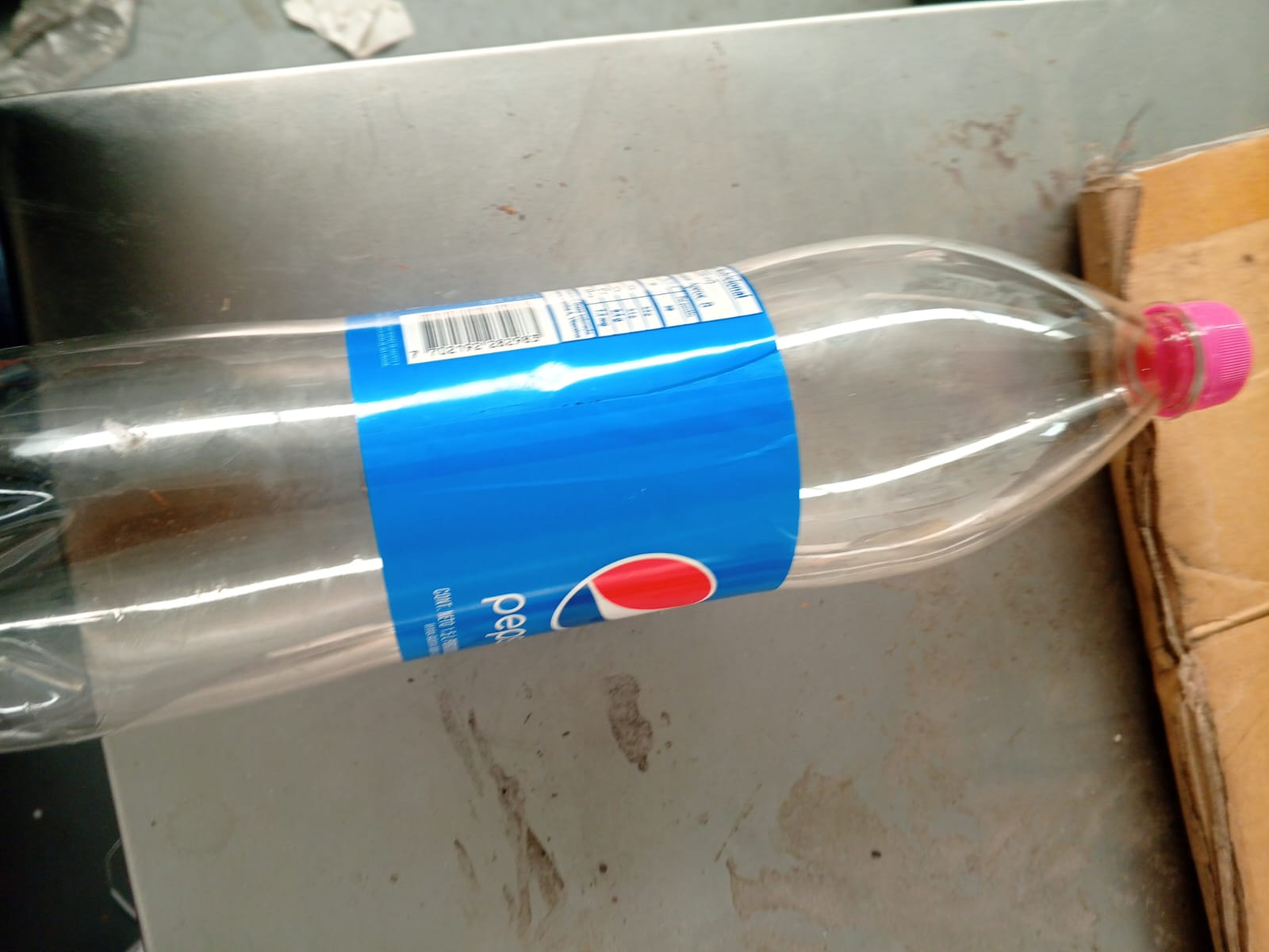Plastico: (1, 235, 1254, 749)
